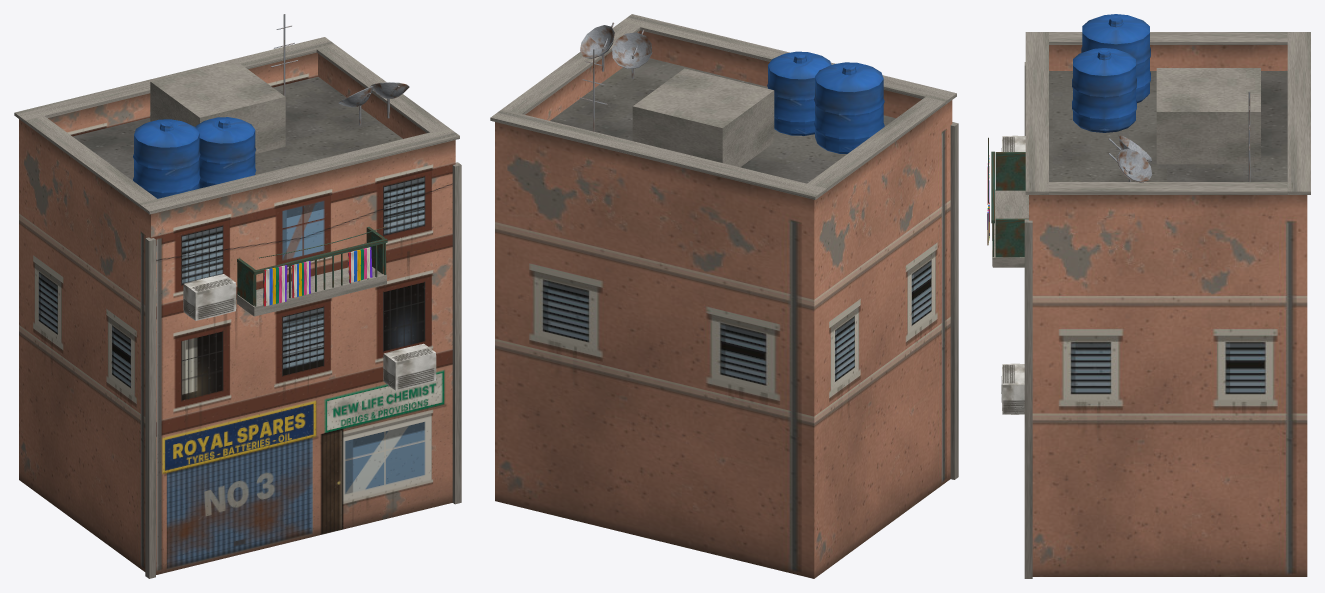
Rendered from env_building_c.glb.
3 renders of one model, left to right at view 1: azimuth 30°, elevation 25°; view 2: azimuth 150°, elevation 25°; view 3: azimuth 270°, elevation 25°, orthographic. The views are drawn at different scales.
Visible parts, largest first — view 1: env_building_c_body; view 2: env_building_c_body; view 3: env_building_c_body.
Part boxes in pixels (x1,y1,x2,y2): env_building_c_body: (14,14,461,578); env_building_c_body: (490,14,958,578); env_building_c_body: (987,14,1310,578).
Size of the model in its own units: 3.28 by 4.29 by 2.79.
1 material, 1 textured.
